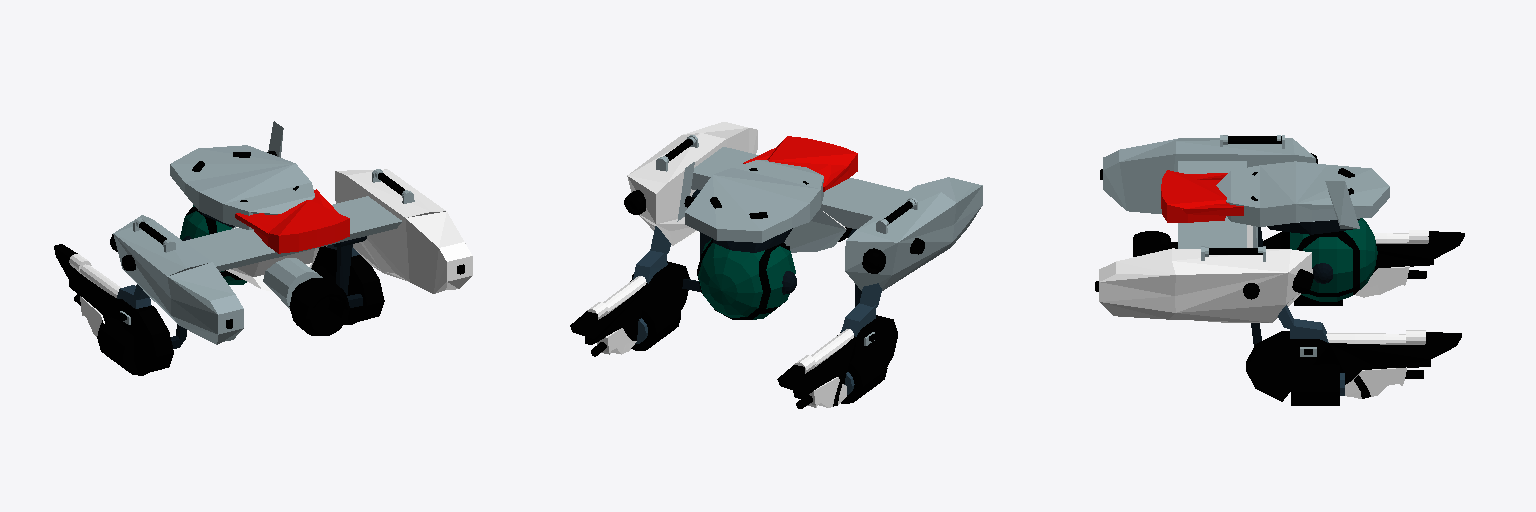
3 views of the same model, side by side, from view 1: azimuth 30°, elevation 25°; view 2: azimuth 150°, elevation 25°; view 3: azimuth 270°, elevation 25° (orthographic).
Visible parts, largest first — view 1: group[number redacted], group[number redacted]; view 2: group[number redacted]; view 3: group[number redacted].
Boxes of the visible parts, <box> form: group[number redacted]: <box>54,121,472,375</box>; group[number redacted]: <box>333,236,366,307</box>; group[number redacted]: <box>570,122,982,408</box>; group[number redacted]: <box>1095,135,1464,405</box>.
Size of the model in its own units: 0.7741 by 0.514 by 0.8685.